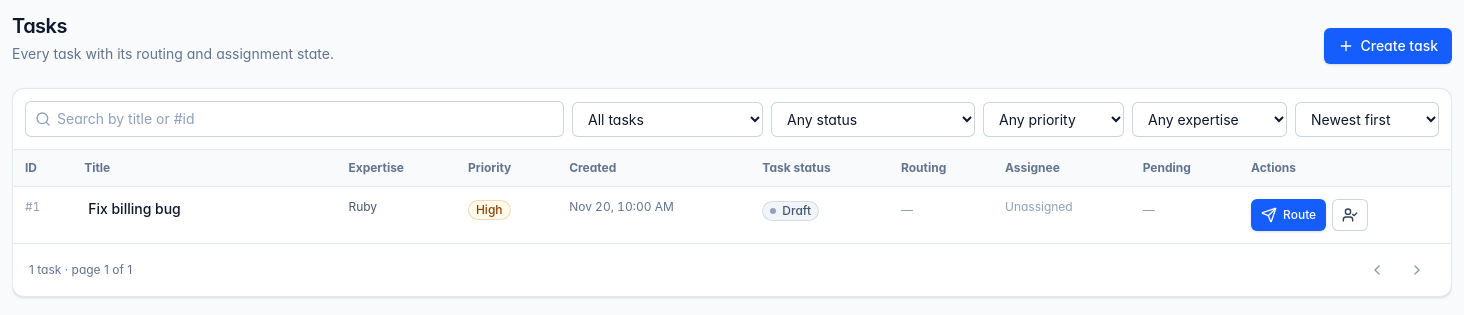
Test: TasksPage › sends filters to the API and reflects them in the URL
The image size is (1464, 315).
Expected: the link "Fix billing bug" is shown, [88, 200, 181, 217]
Select "Declined" in the dropdown named "Status": (873, 119) [771, 102, 975, 136]
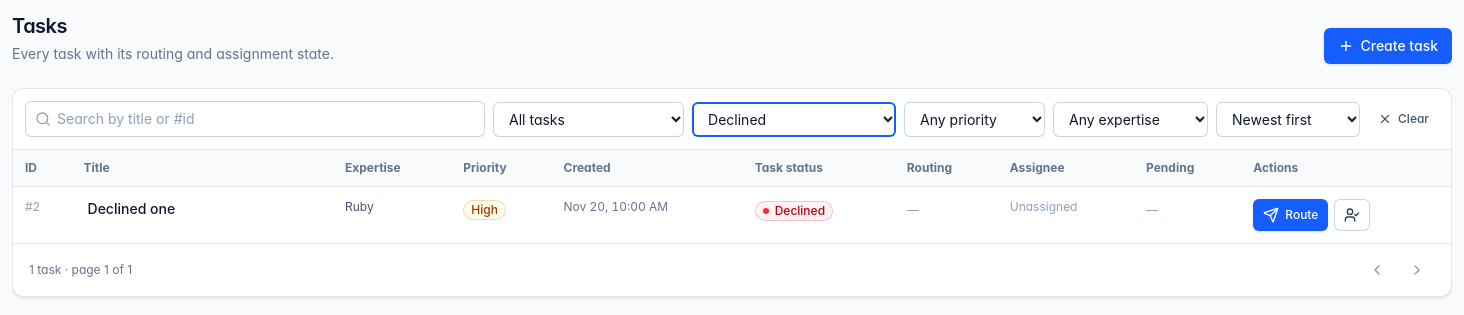
Now the link "Declined one" is shown, box [88, 200, 175, 217]
